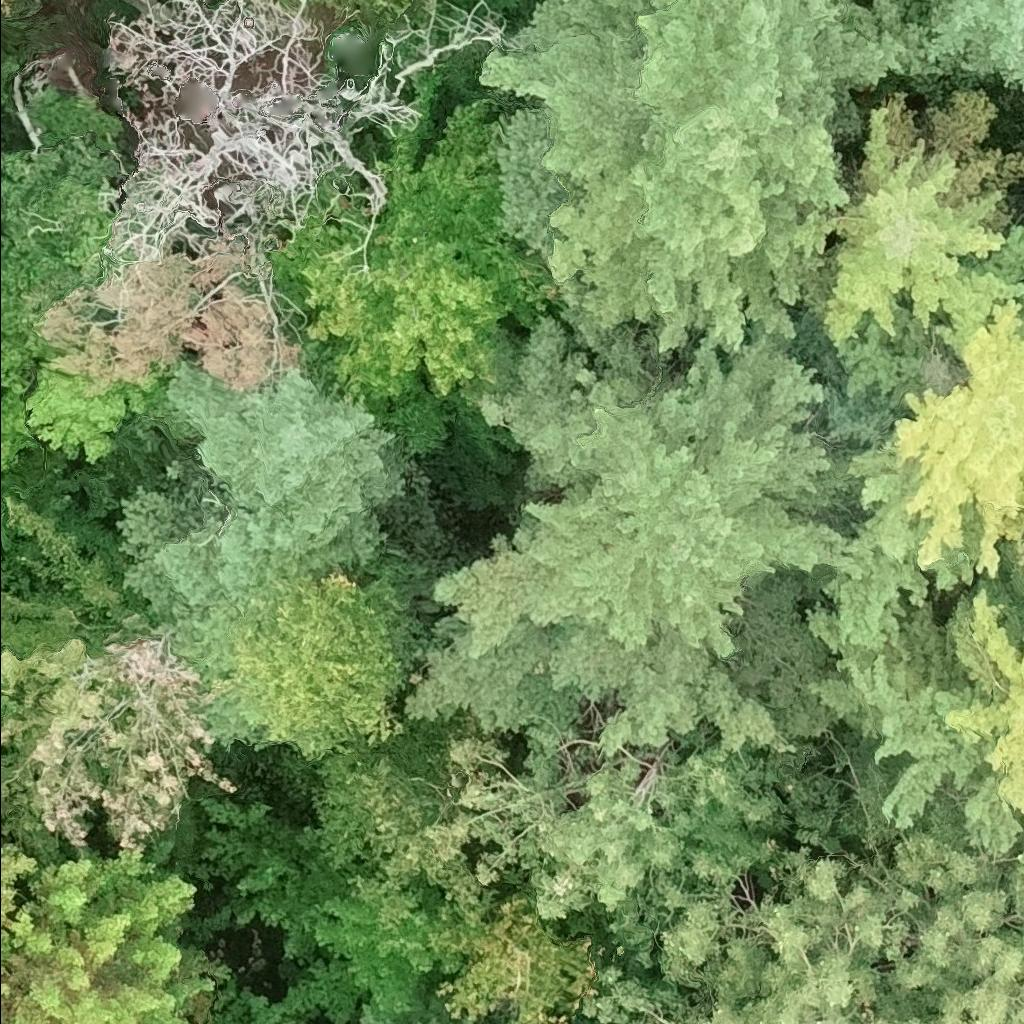crown: (401, 305, 897, 762), (479, 0, 953, 367), (113, 360, 416, 758), (589, 796, 1023, 1023), (269, 90, 545, 414), (0, 493, 238, 867), (800, 298, 1023, 656), (422, 735, 795, 919), (793, 86, 1023, 357), (803, 574, 1023, 852), (35, 245, 308, 400), (0, 844, 221, 1023), (231, 568, 410, 760), (311, 874, 469, 1018), (19, 365, 172, 469), (900, 0, 1023, 102), (0, 840, 39, 1004), (0, 391, 38, 495), (358, 997, 468, 1023), (973, 224, 1023, 279), (995, 539, 1023, 606), (320, 0, 411, 20), (492, 1020, 503, 1023)
